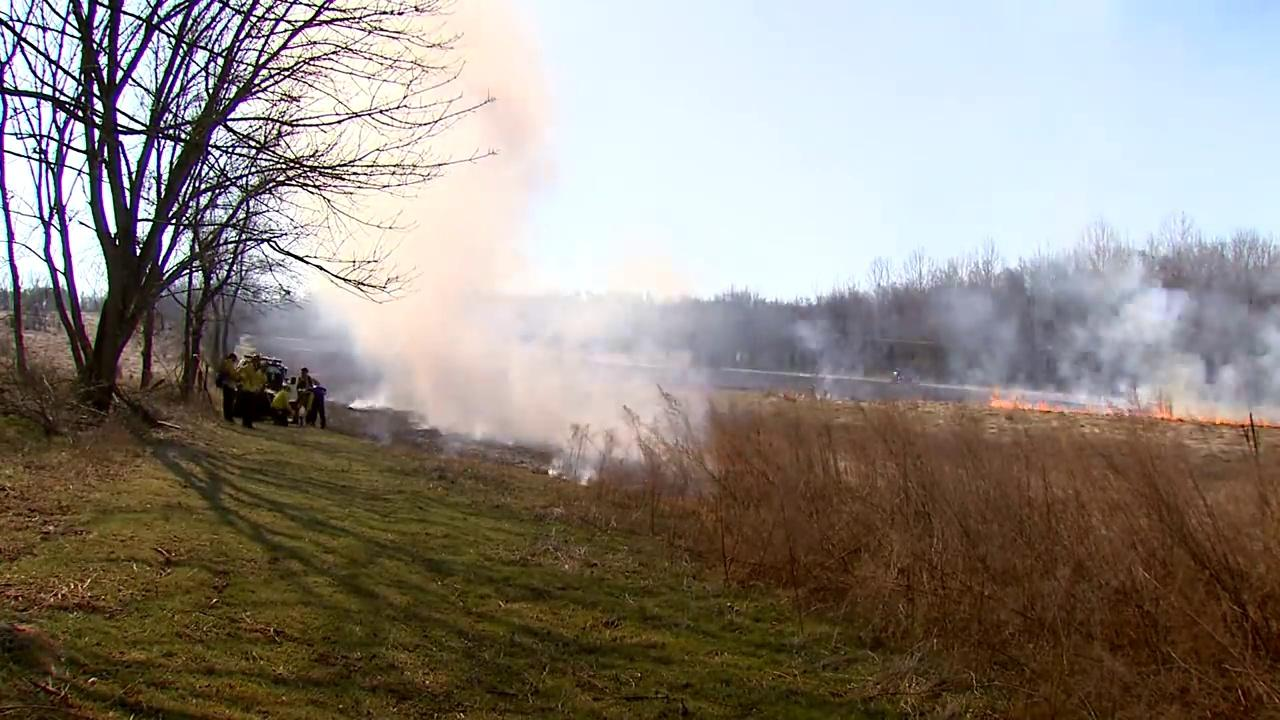Fire: (993, 391, 1070, 420), (1193, 412, 1275, 427), (1154, 406, 1182, 423)
